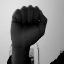a: (10, 3, 47, 52)
